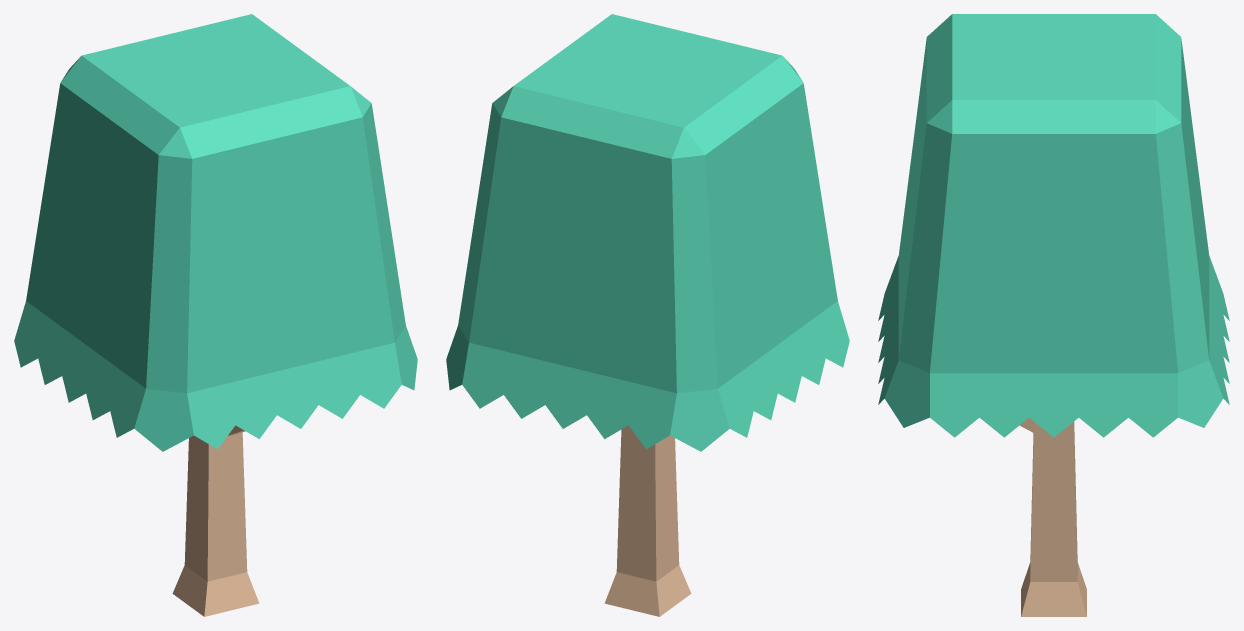
File: tree.glb
3 views of the same model, side by side, from view 1: azimuth 30°, elevation 25°; view 2: azimuth 150°, elevation 25°; view 3: azimuth 270°, elevation 25° (orthographic). The views are drawn at different scales.
Visible parts, largest first — view 1: tree(Clone); view 2: tree(Clone); view 3: tree(Clone).
Boxes of the visible parts, x1,y1,x2,y2 form: tree(Clone): (14, 14, 417, 616); tree(Clone): (446, 14, 849, 616); tree(Clone): (878, 14, 1229, 616).
Bounding box in the file's own units: 1.13 × 1.94 × 1.13.
